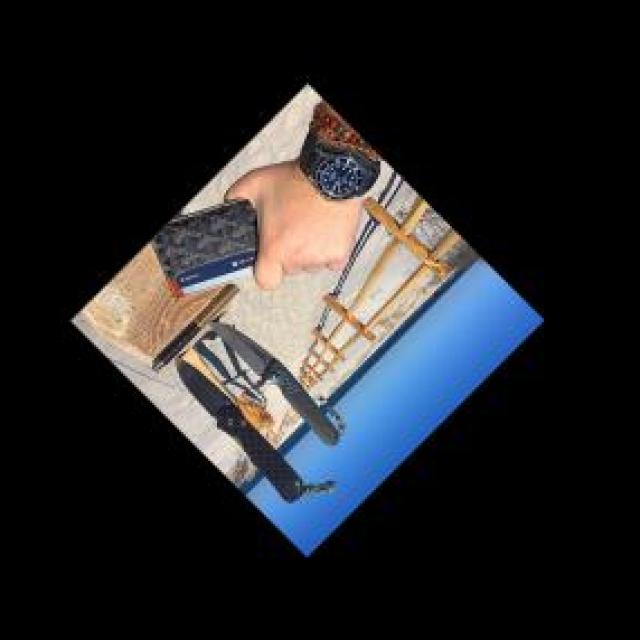knife: (168, 352, 311, 512), (204, 315, 354, 451)
